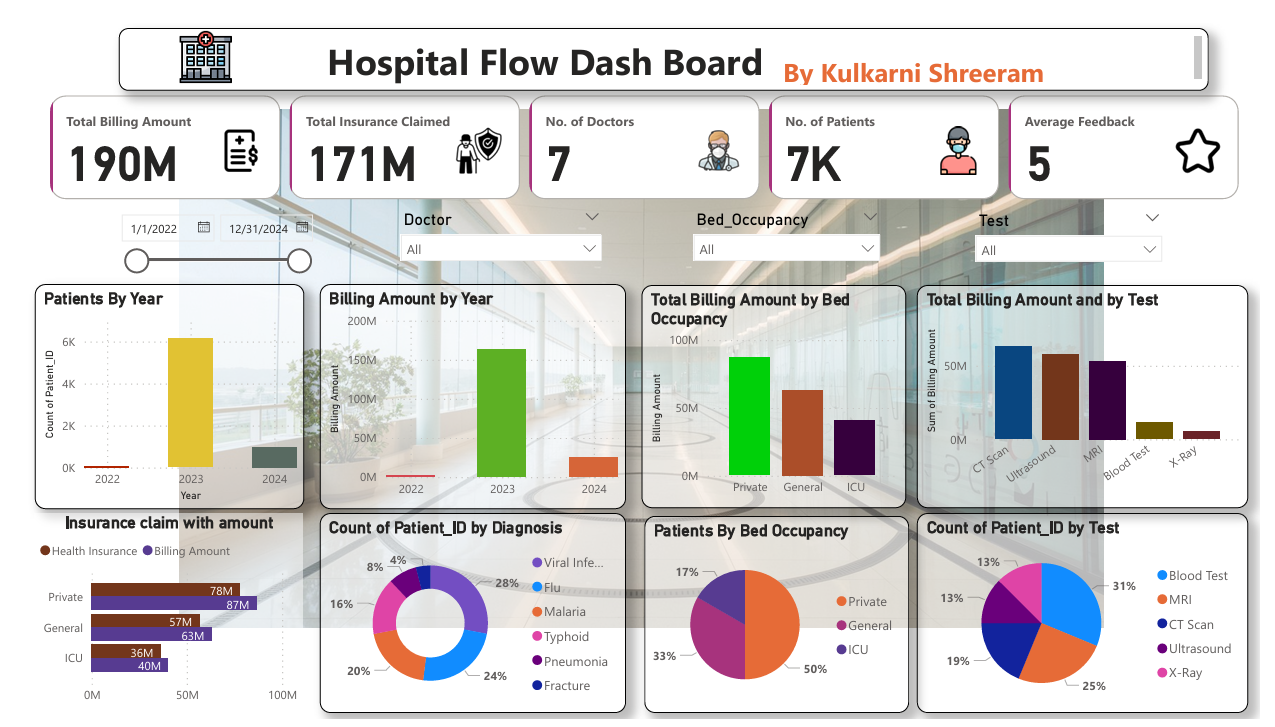

The page's visual inventory and layout, read from the dashboard file:
{"tool":"powerbi","page":{"name":"Hospital Flow","canvas":[1280,720],"ordinal":0},"visuals":[{"type":"clusteredColumnChart","title":"Patients By Year","fields":{"Y":["CountNonNull(Sheet1.Patient_ID)"],"Category":["Date.Date.Variation.Date Hierarchy.Year","Date.Date.Variation.Date Hierarchy.Quarter","Date.Date.Variation.Date Hierarchy.Month","Date.Date.Variation.Date Hierarchy.Day"]},"box":[12.3,270.1,278.3,233.1],"z":6000},{"type":"clusteredColumnChart","title":"Billing Amount by Year","fields":{"Category":["Date.Date.Variation.Date Hierarchy.Year","Date.Date.Variation.Date Hierarchy.Quarter","Date.Date.Variation.Date Hierarchy.Month","Date.Date.Variation.Date Hierarchy.Day"],"Y":["Sum(Sheet1.Billing Amount)"]},"box":[307.1,270.1,316.7,233.1],"z":7000},{"type":"pieChart","fields":{"Category":["Sheet1.Test"],"Y":["CountNonNull(Sheet1.Patient_ID)"]},"box":[925.5,507.3,342.8,207],"z":8000},{"type":"pieChart","title":"Patients By Bed Occupancy","fields":{"Category":["Sheet1.Bed_Occupancy"],"Y":["CountNonNull(Sheet1.Patient_ID)"]},"box":[643,510,274.2,204.3],"z":9000},{"type":"donutChart","fields":{"Category":["Sheet1.Diagnosis"],"Y":["CountNonNull(Sheet1.Patient_ID)"]},"box":[307.1,507.3,316.7,207],"z":10000},{"type":"clusteredColumnChart","title":"Total Billing Amount by Bed Occupancy","fields":{"Y":["Sum(Sheet1.Billing Amount)"],"Category":["Sheet1.Bed_Occupancy"]},"box":[640.3,271.5,274.2,230.3],"z":11000},{"type":"clusteredColumnChart","title":"Total Billing Amount and by Test","fields":{"Y":["Sum(Sheet1.Billing Amount)"],"Category":["Sheet1.Test"]},"box":[925.5,271.5,342.8,230.3],"z":12000},{"type":"clusteredBarChart","title":"Insurance claim with amount","fields":{"Category":["Sheet1.Bed_Occupancy"],"Y":["Sum(Sheet1.Health Insurance Amount)","Sum(Sheet1.Billing Amount)"]},"box":[12,507,278,207],"z":14000},{"type":"cardVisual","fields":{"Data":["Sum(Sheet1.Billing Amount)","Sum(Sheet1.Health Insurance Amount)","Count(Sheet1.Doctor)","CountNonNull(Sheet1.Patient_ID)","Avg(Sheet1.Feedback)"]},"box":[23.3,69.9,1240.8,117.9],"z":14001},{"type":"slicer","fields":{"Values":["Date.Date"]},"box":[89.1,187.8,218,94.6],"z":14002},{"type":"slicer","fields":{"Values":["Sheet1.Doctor"]},"box":[381.2,187.8,227.6,61.7],"z":14003},{"type":"slicer","fields":{"Values":["Sheet1.Bed_Occupancy"]},"box":[684.2,187.8,212.5,64.4],"z":14004},{"type":"slicer","fields":{"Values":["Sheet1.Test"]},"box":[976.2,189.2,212.5,64.4],"z":14005},{"type":"textbox","box":[98.7,5.5,1128.4,64.4],"z":14006},{"type":"image","box":[156.3,0,65.8,69.9],"z":14007}]}

Visuals, with their boxes in screenshot pixels (x1, y1, x2, y2), scaled from the page's 1280x720 canvas onto the 1275x727 screenshot:
"Patients By Year" clusteredColumnChart: (12, 273, 289, 508)
"Billing Amount by Year" clusteredColumnChart: (306, 273, 621, 508)
pieChart - Sheet1.Test x CountNonNull(Sheet1.Patient_ID): (922, 512, 1263, 721)
"Patients By Bed Occupancy" pieChart: (640, 515, 914, 721)
donutChart - Sheet1.Diagnosis x CountNonNull(Sheet1.Patient_ID): (306, 512, 621, 721)
"Total Billing Amount by Bed Occupancy" clusteredColumnChart: (638, 274, 911, 507)
"Total Billing Amount and by Test" clusteredColumnChart: (922, 274, 1263, 507)
"Insurance claim with amount" clusteredBarChart: (12, 512, 289, 721)
cardVisual - Sum(Sheet1.Billing Amount) x Sum(Sheet1.Health Insurance Amount): (23, 71, 1259, 190)
slicer - Date.Date: (89, 190, 306, 285)
slicer - Sheet1.Doctor: (380, 190, 606, 252)
slicer - Sheet1.Bed_Occupancy: (682, 190, 893, 255)
slicer - Sheet1.Test: (972, 191, 1184, 256)
textbox: (98, 6, 1222, 71)
image: (156, 0, 221, 71)
